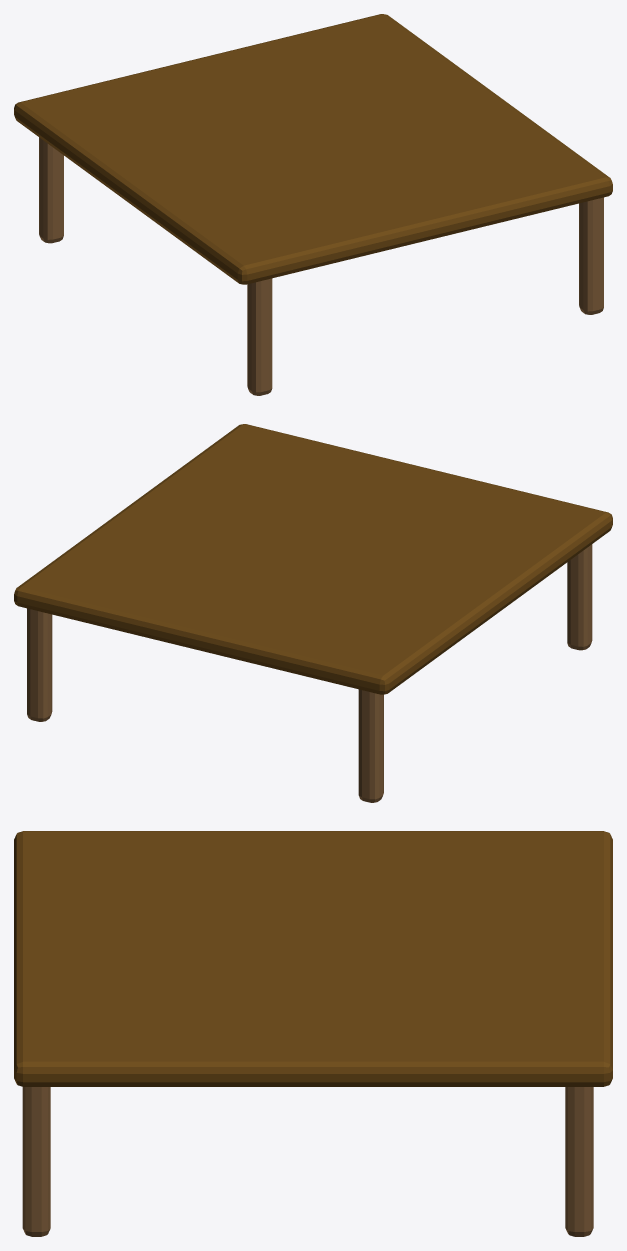
The model's file is arm3_table_origin.glb.
3 views of the same model, one above another, from view 1: azimuth 30°, elevation 25°; view 2: azimuth 150°, elevation 25°; view 3: azimuth 270°, elevation 25° (orthographic). The views are drawn at different scales.
Parts seen in each view (by area): view 1: table.001; view 2: table.001; view 3: table.001.
Boxes of the visible parts, <box> form: table.001: <box>14,14,612,395</box>; table.001: <box>14,424,612,802</box>; table.001: <box>14,831,612,1236</box>.
Bounding box in the file's own units: 0.8174 × 0.2855 × 0.8693.
